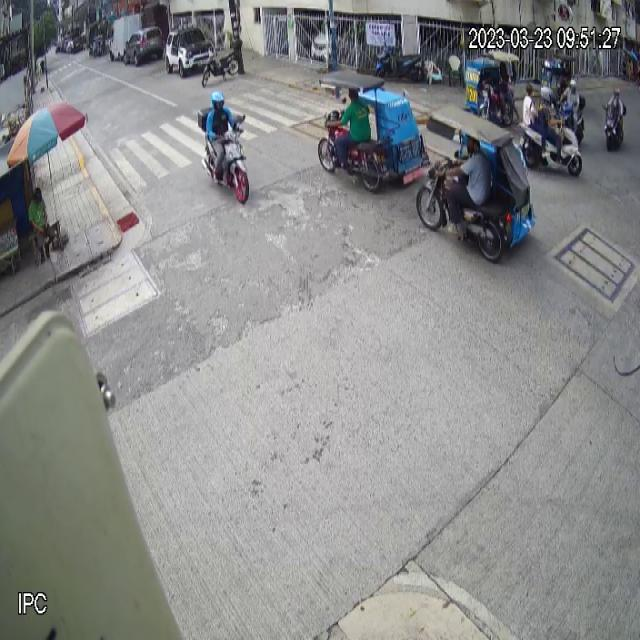Motorcycle: (197, 105, 251, 206), (519, 112, 582, 176), (600, 102, 629, 153)
Tricycle: (415, 104, 536, 262), (316, 70, 432, 194)
